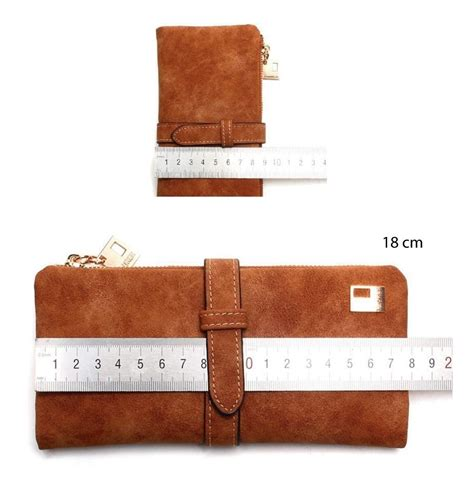gamuza: (36, 26, 407, 447)
